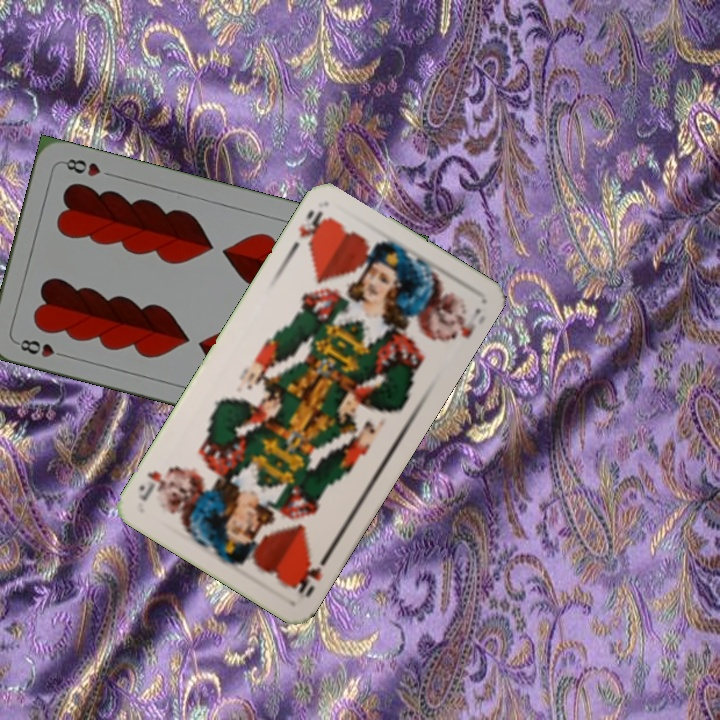H8: (12, 335, 70, 360)
HO: (285, 206, 332, 256), (289, 548, 334, 600)
